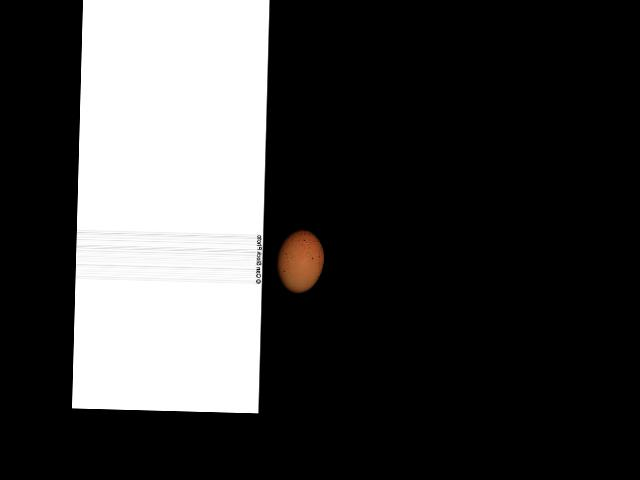egg: (275, 229, 324, 293)
